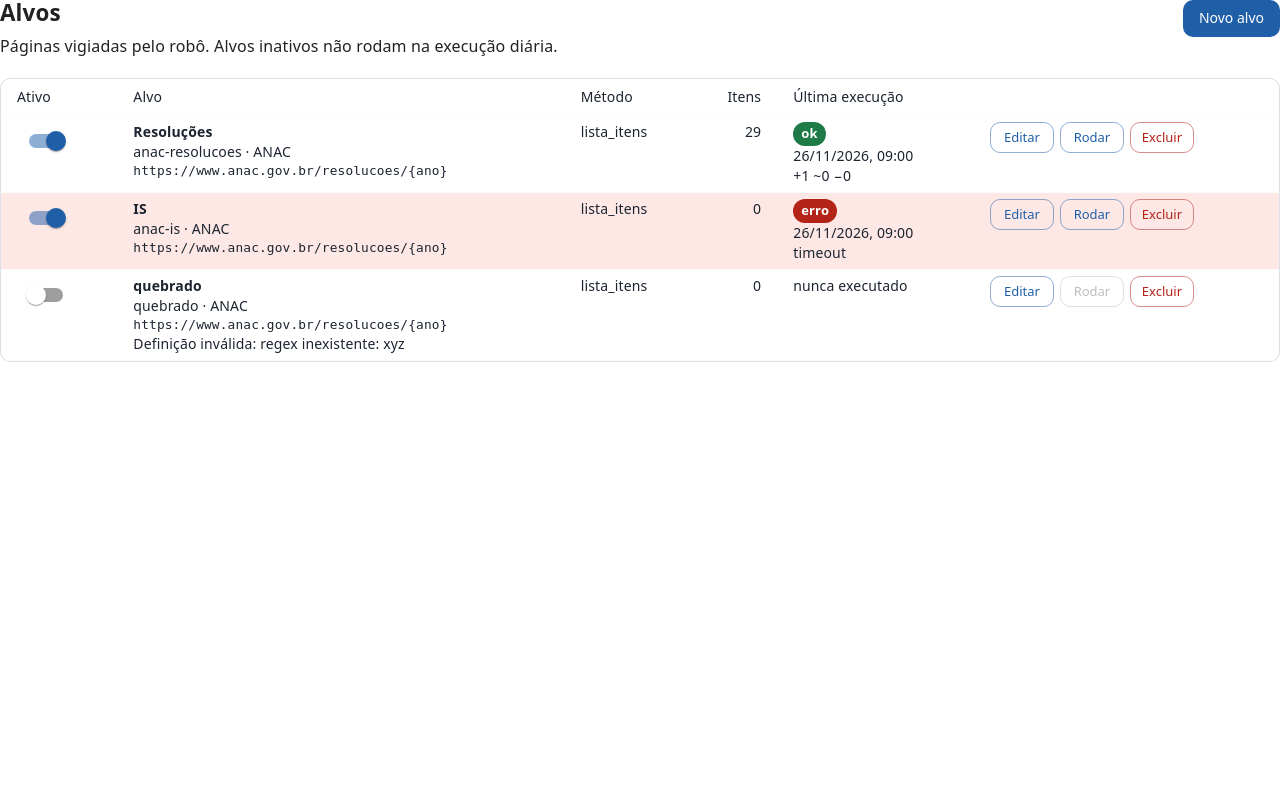
Scenario: AlvosPage › excluir pede confirmação; cancelar não apaga
Click the button with aria-label "Excluir anac-is".
click(1162, 214)  # box [1130,199,1194,230]
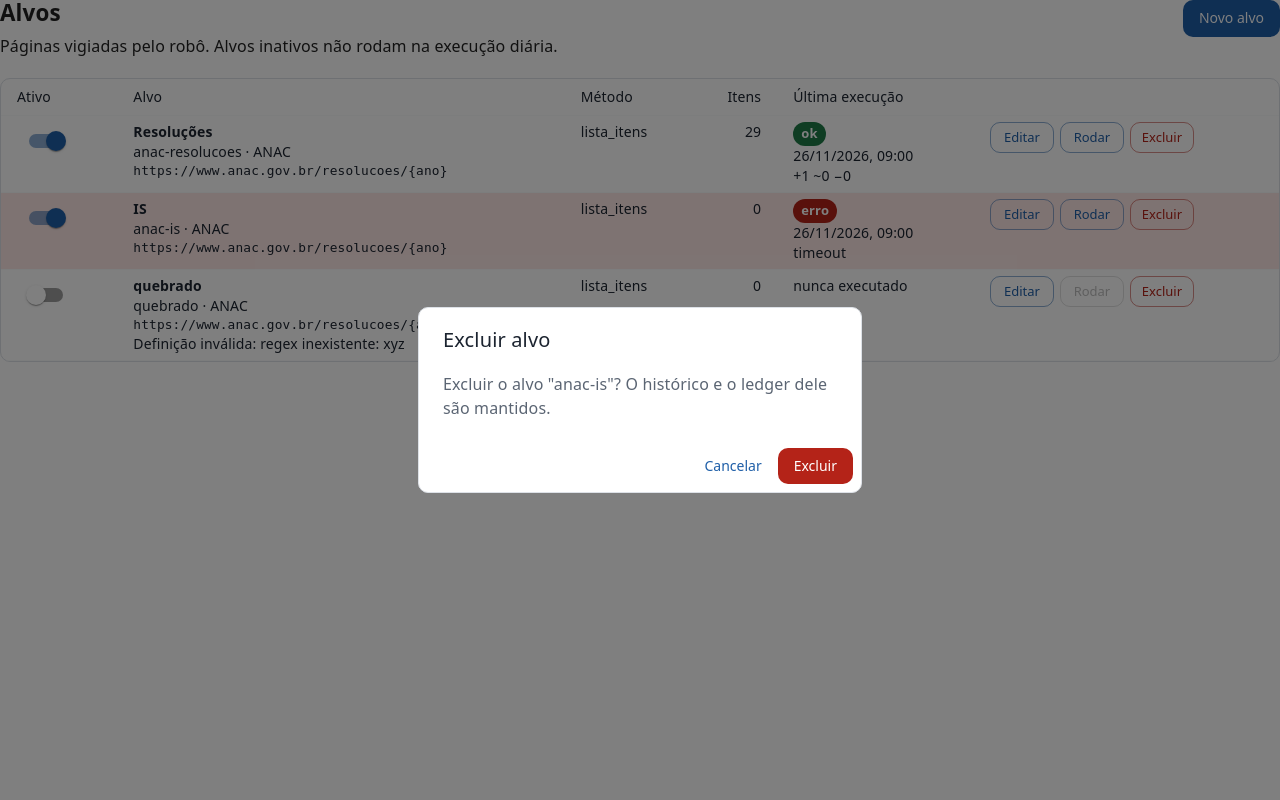
Expected: the text "Excluir o alvo \"anac-is\"? O histórico e o ledger dele são mantidos." is shown, [443,372,837,420]
Click the button "Cancelar".
click(733, 466)  # box [696,448,770,484]
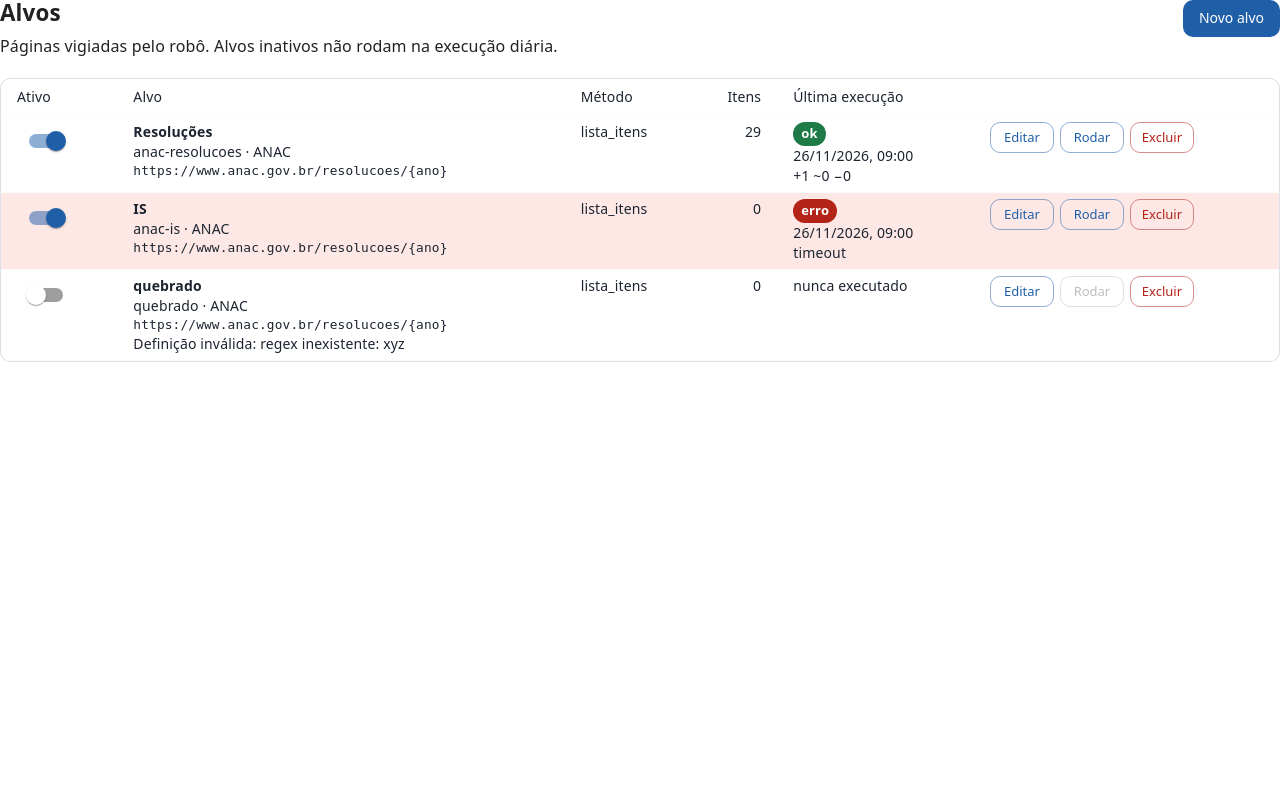
Expected: the dialog is gone
Click the button with aria-label "Excluir anac-is".
click(1162, 214)  # box [1130,199,1194,230]
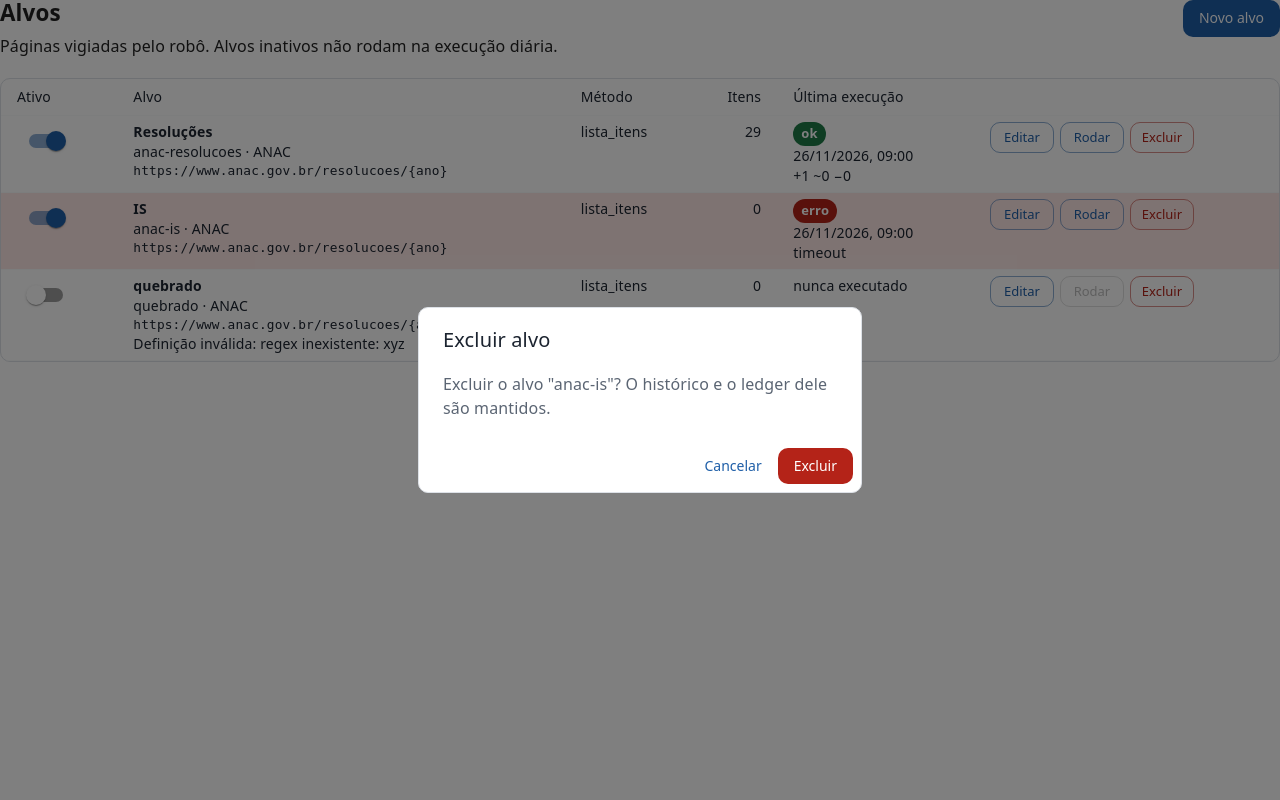
Click the button "Excluir".
click(815, 466)  # box [778,448,853,484]
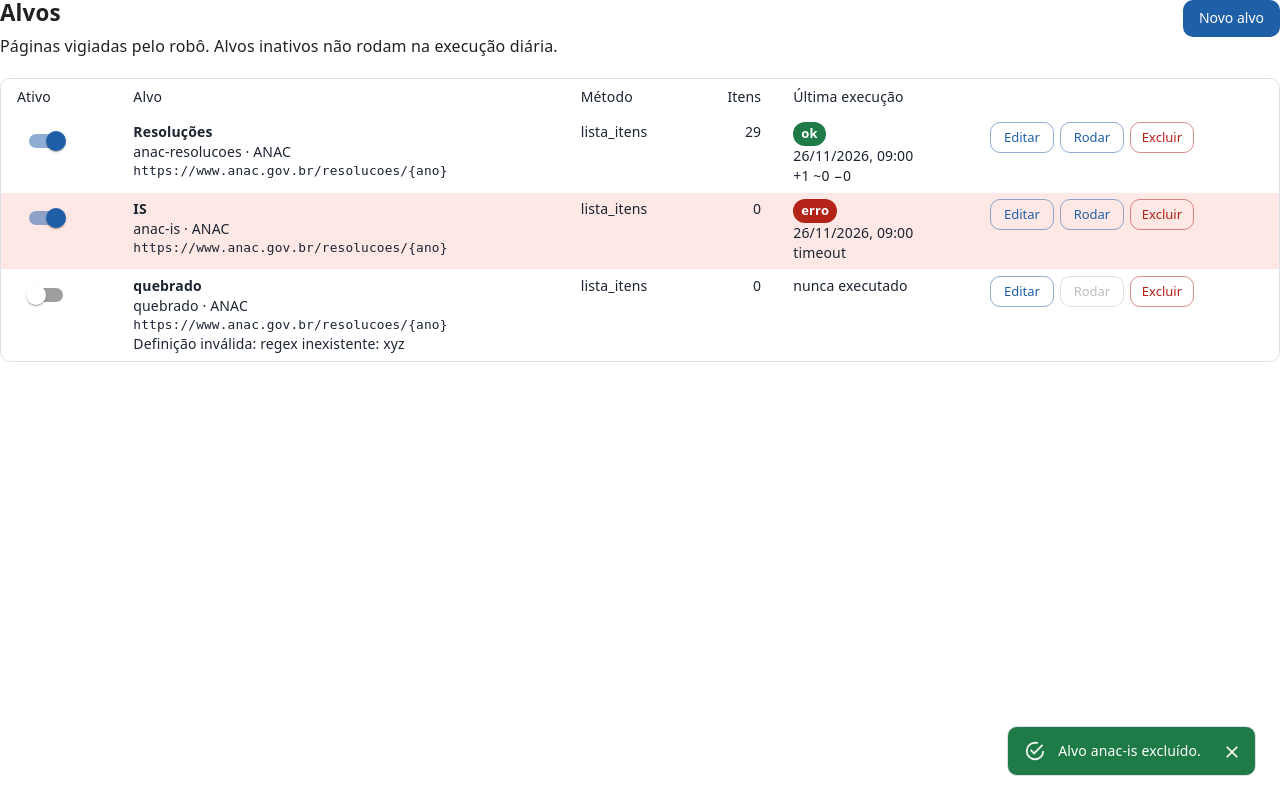
Expected: the text "Alvo anac-is excluído." is shown, [1058,741,1201,760]
